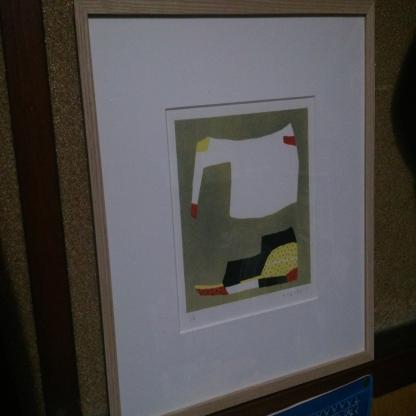Picture-frame: (75, 1, 376, 416)
